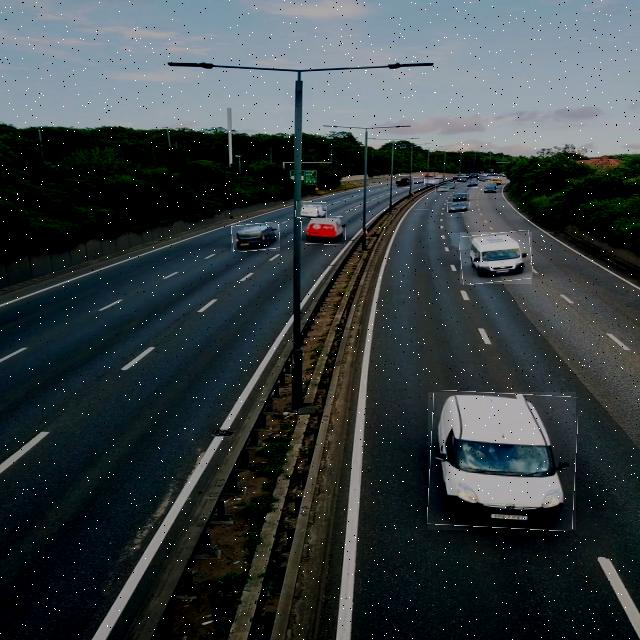Car: (428, 392, 576, 530), (460, 232, 532, 284), (231, 223, 280, 251), (302, 216, 346, 244), (296, 202, 327, 219), (448, 200, 470, 212), (396, 176, 412, 188), (454, 194, 469, 202), (454, 177, 472, 183), (483, 186, 496, 194), (435, 185, 448, 193), (466, 180, 478, 188), (424, 179, 439, 185), (444, 182, 456, 189), (469, 174, 479, 182), (413, 177, 424, 184), (476, 176, 488, 182)
